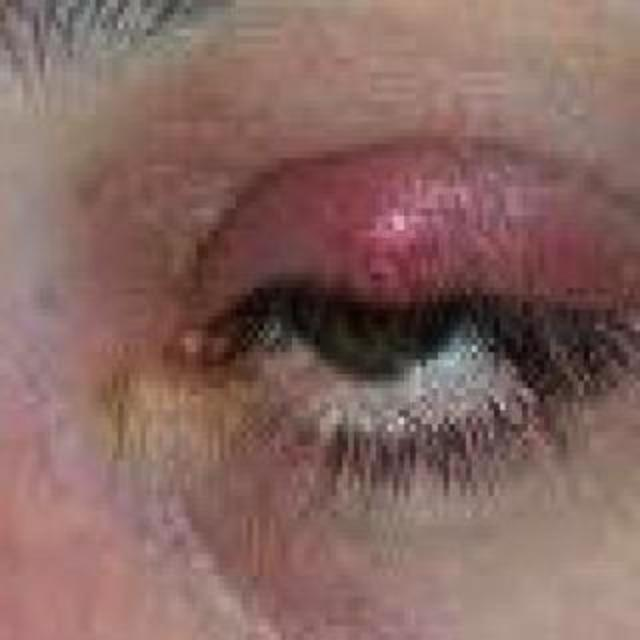Stye: (298, 148, 556, 302)
